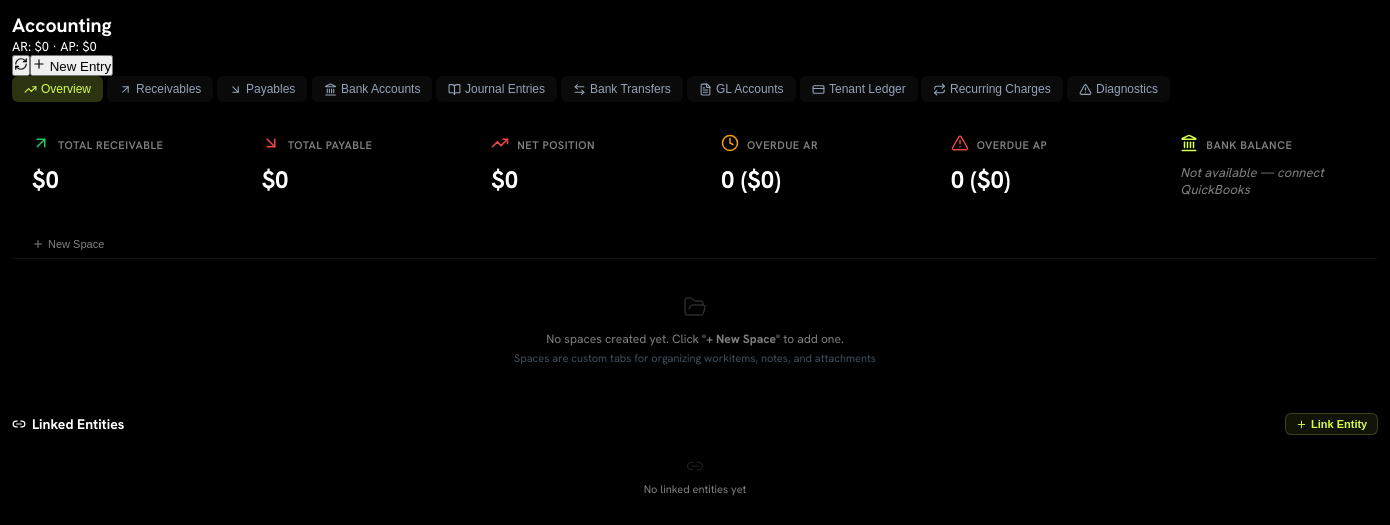
Test: AccountingModule · mocked real /invoices rows render on the derived tabs › Journal Entries renders the type=journal rows the New Entry modal writes to /invoices
This screenshot has width=1390, height=525.
Click the button "Journal Entries" at (497, 89), box [436,76,557,102]
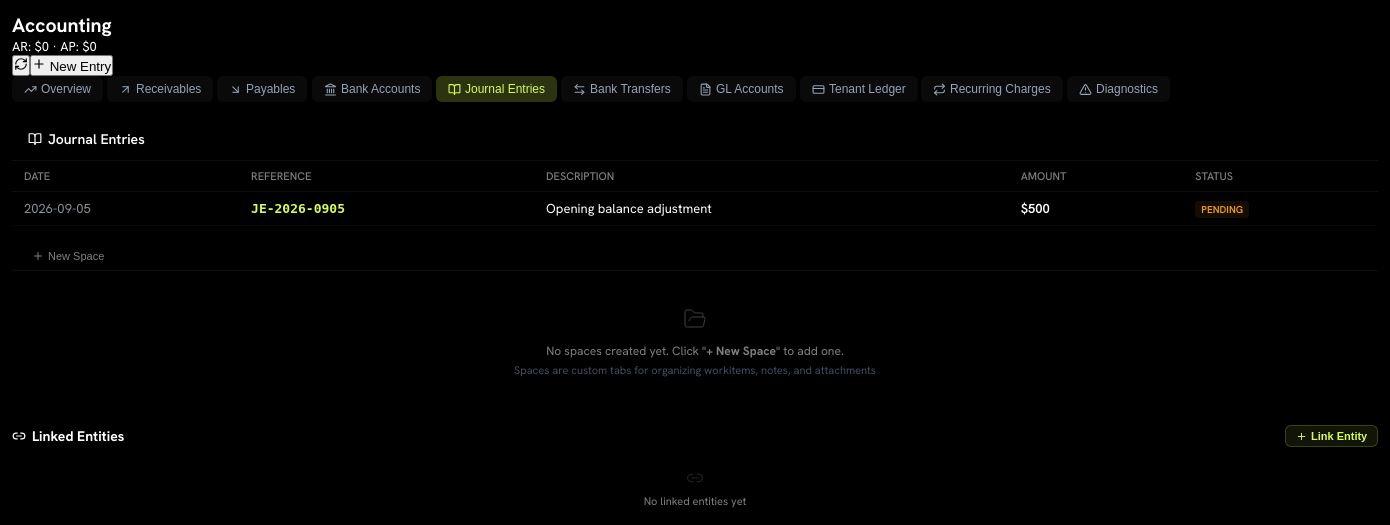
Result: the text "JE-2026-0905" is shown at [239,192,534,226]
Result: the text "Opening balance adjustment" is shown at [534,192,1009,226]
Result: the text "$500" is shown at [1009,192,1183,226]
